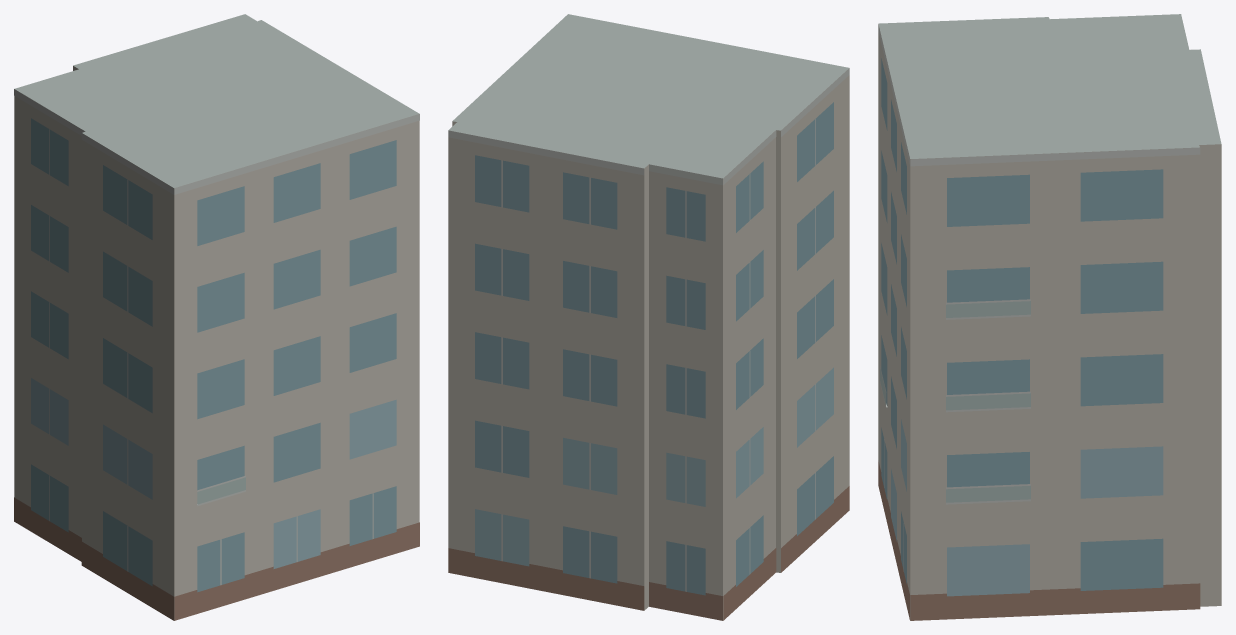
File: survey-upis-32663597.glb
3 views of the same model, side by side, from view 1: azimuth 30°, elevation 25°; view 2: azimuth 150°, elevation 25°; view 3: azimuth 270°, elevation 25° (orthographic). The views are drawn at different scales.
Parts seen in each view (by area): view 1: survey-upis-32663597.tmp; view 2: survey-upis-32663597.tmp; view 3: survey-upis-32663597.tmp.
Boxes of the visible parts, bbox=[...] form: survey-upis-32663597.tmp: bbox=[14, 14, 419, 620]; survey-upis-32663597.tmp: bbox=[448, 14, 849, 620]; survey-upis-32663597.tmp: bbox=[878, 14, 1221, 620].
Size of the model in its own units: 10.52 by 15.6 by 10.52.
